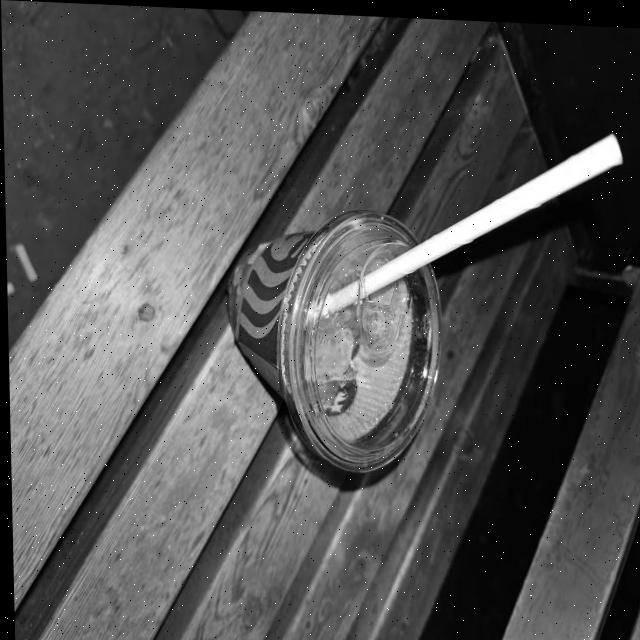cup: (215, 204, 451, 481)
